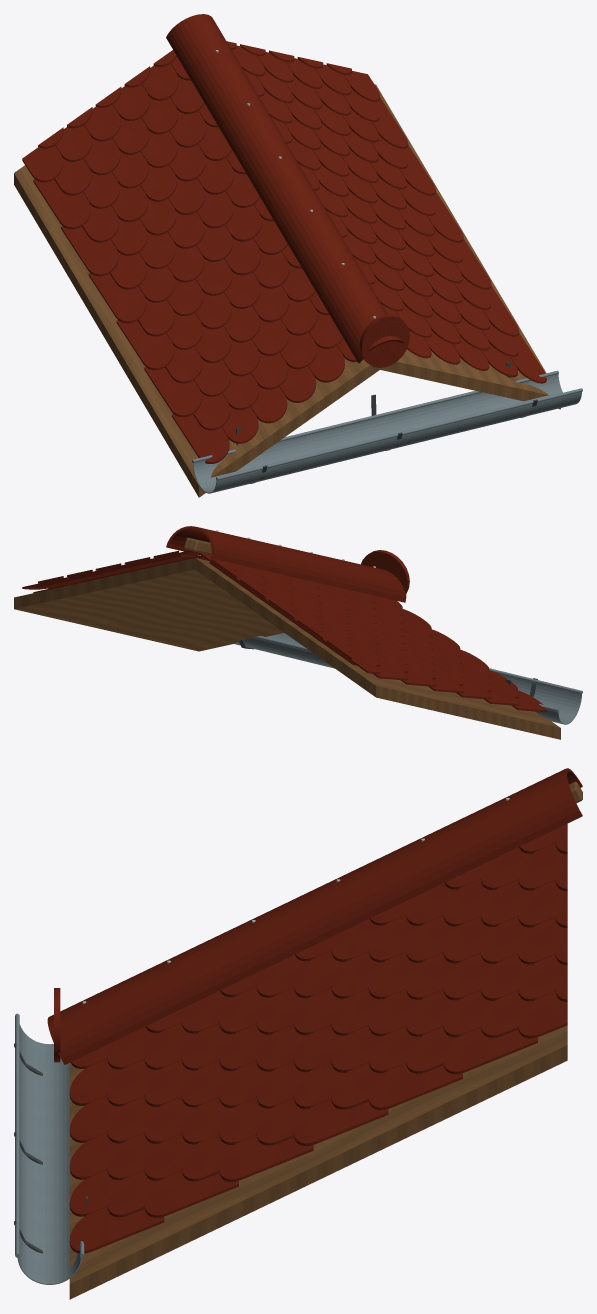
The model's file is modell.glb.
The picture shows the model from 3 angles, top to bottom: view 1: azimuth 30°, elevation 25°; view 2: azimuth 150°, elevation 25°; view 3: azimuth 270°, elevation 25°; orthographic projection. The views are drawn at different scales.
Visible parts, largest first — view 1: w02-ziegel_deckung, w02-gratziegel_deckung, w02-walmflaeche_tragwerk, w02-rinne_, w02-gratfuss_deckung; view 2: w02-walmflaeche_tragwerk, w02-ziegel_deckung, w02-gratziegel_deckung, w02-rinne_, w02-gratfuss_deckung, w02-gratlatte_lattung; view 3: w02-ziegel_deckung, w02-gratziegel_deckung, w02-walmflaeche_tragwerk, w02-rinne_.
Part boxes in pixels (bbox=[...]): w02-ziegel_deckung: bbox=[22, 41, 546, 463]; w02-gratziegel_deckung: bbox=[166, 14, 403, 363]; w02-walmflaeche_tragwerk: bbox=[14, 84, 560, 497]; w02-rinne_: bbox=[192, 370, 582, 493]; w02-gratfuss_deckung: bbox=[359, 314, 409, 367]; w02-walmflaeche_tragwerk: bbox=[14, 558, 560, 739]; w02-ziegel_deckung: bbox=[22, 550, 546, 712]; w02-gratziegel_deckung: bbox=[166, 526, 406, 602]; w02-rinne_: bbox=[234, 633, 582, 724]; w02-gratfuss_deckung: bbox=[361, 550, 409, 593]; w02-gratlatte_lattung: bbox=[184, 537, 211, 553]; w02-ziegel_deckung: bbox=[69, 823, 567, 1253]; w02-gratziegel_deckung: bbox=[47, 768, 582, 1064]; w02-walmflaeche_tragwerk: bbox=[69, 1025, 567, 1299]; w02-rinne_: bbox=[15, 1013, 84, 1284].
Size of the model in its own units: 2.28 by 1.81 by 2.28.
Materials: 5 (3 with a texture image).
